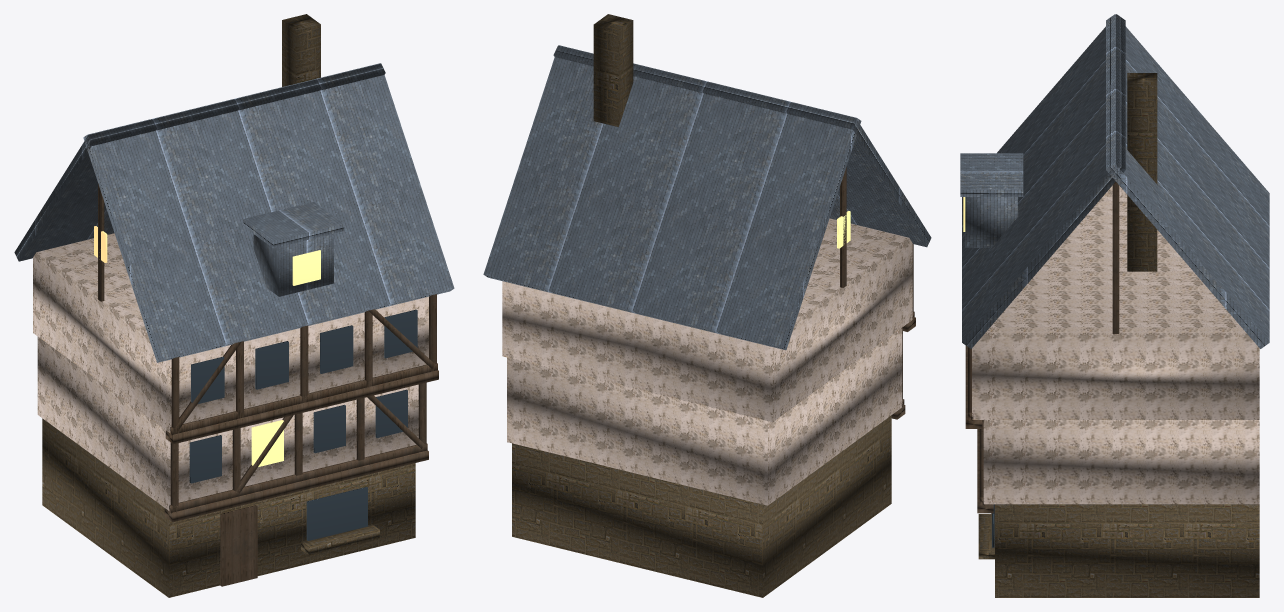
Rendered from house_0.glb.
The picture shows the model from 3 angles, left to right: view 1: azimuth 30°, elevation 25°; view 2: azimuth 150°, elevation 25°; view 3: azimuth 270°, elevation 25°; orthographic projection. The views are drawn at different scales.
Parts seen in each view (by area): view 1: house_0; view 2: house_0; view 3: house_0.
Part boxes in pixels (bbox=[...]): house_0: bbox=[14, 14, 454, 597]; house_0: bbox=[483, 14, 931, 597]; house_0: bbox=[960, 14, 1269, 597].
Size of the model in its own units: 10.7 by 16.56 by 9.35.
Materials: 6 (4 with a texture image).
